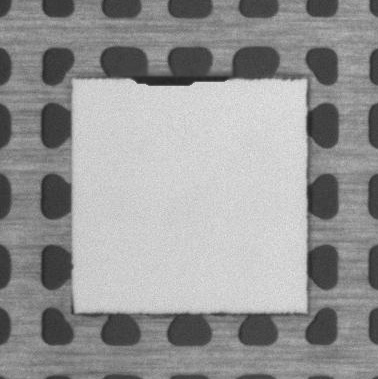DIE_BROKEN: (127, 72, 235, 87)
